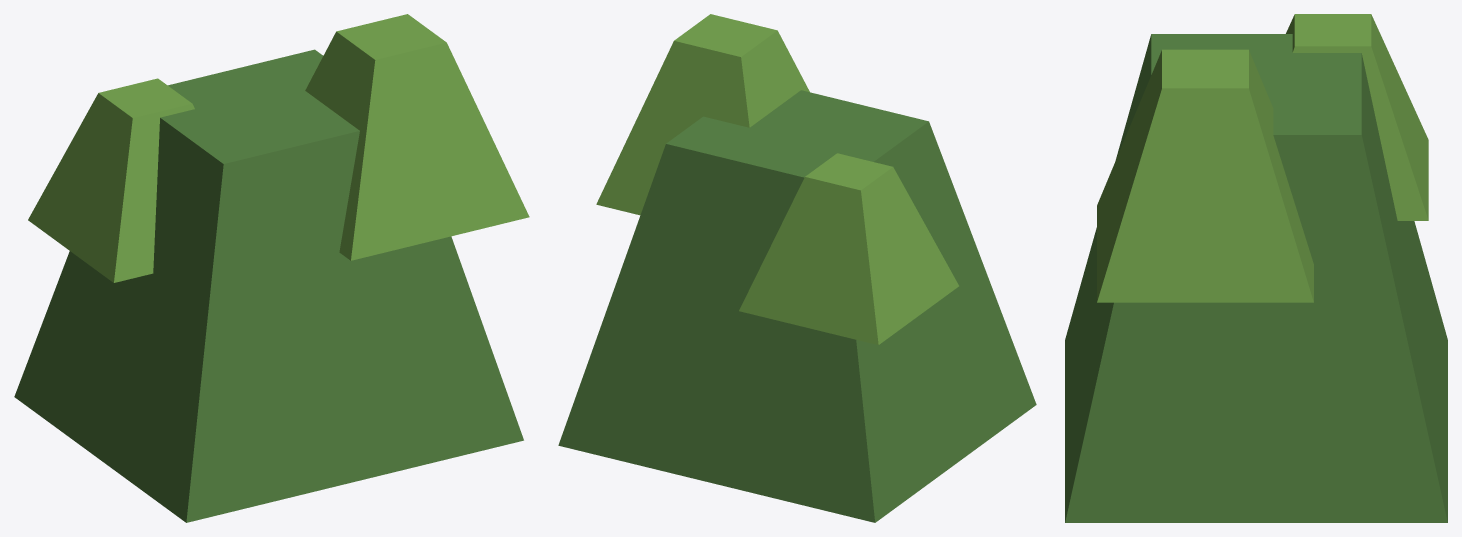
The model's file is prop_bush.glb.
The picture shows the model from 3 angles, left to right: view 1: azimuth 30°, elevation 25°; view 2: azimuth 150°, elevation 25°; view 3: azimuth 270°, elevation 25°; orthographic projection. The views are drawn at different scales.
Visible parts, largest first — view 1: prop_bush; view 2: prop_bush; view 3: prop_bush.
Part boxes in pixels (box(x1,y1,x2,y2)): prop_bush: box(14, 14, 529, 522); prop_bush: box(558, 14, 1036, 522); prop_bush: box(1065, 14, 1447, 522).
Size of the model in its own units: 0.36 by 0.36 by 0.3.
